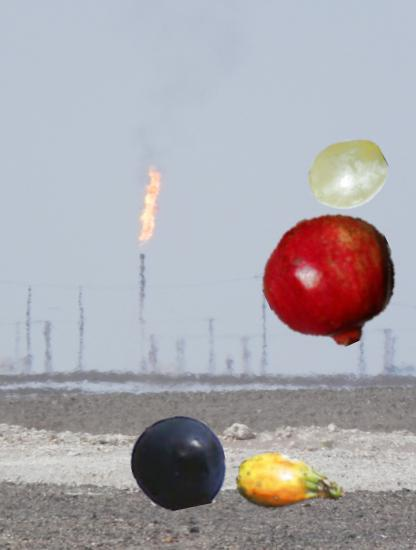Cactus: (234, 427, 347, 540)
Grape: (131, 415, 226, 510), (306, 133, 389, 216)
Pomegranate: (264, 213, 398, 347)
